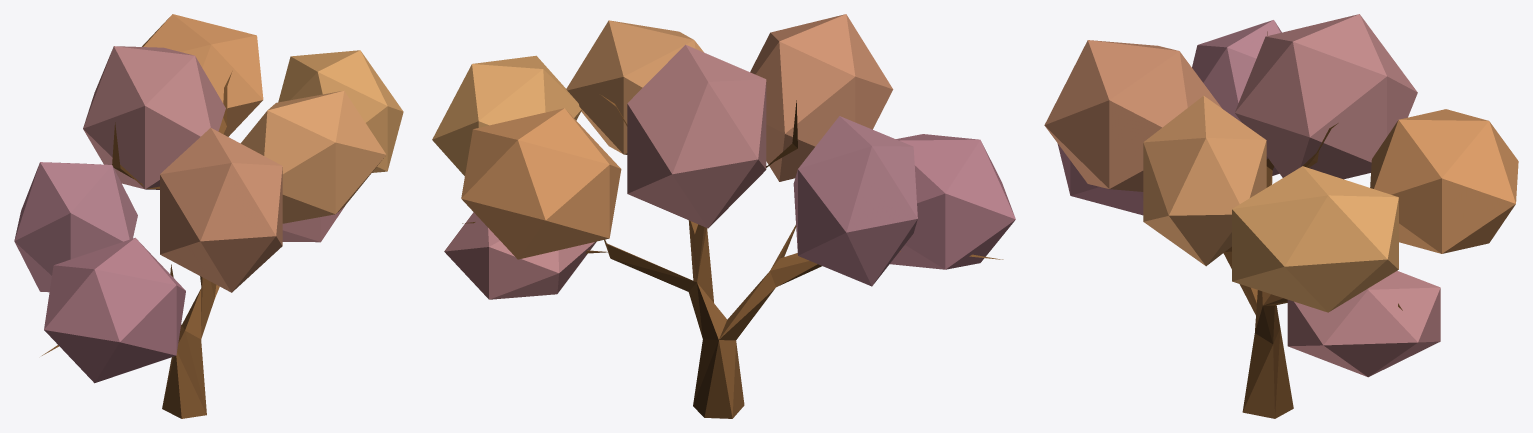
The model's file is jacaranda_3_autumn_far.glb.
3 views of the same model, side by side, from view 1: azimuth 30°, elevation 25°; view 2: azimuth 150°, elevation 25°; view 3: azimuth 270°, elevation 25° (orthographic). The views are drawn at different scales.
Visible parts, largest first — view 1: jacaranda_3_autumn_far; view 2: jacaranda_3_autumn_far; view 3: jacaranda_3_autumn_far.
Part boxes in pixels (x1,y1,x2,y2): jacaranda_3_autumn_far: (14, 14, 403, 418); jacaranda_3_autumn_far: (432, 14, 1015, 418); jacaranda_3_autumn_far: (1044, 14, 1518, 418).
Size of the model in its own units: 8.47 by 6.36 by 7.25.
